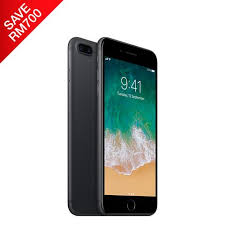iphone: (93, 36, 159, 217)
iphone7: (93, 36, 159, 217)
